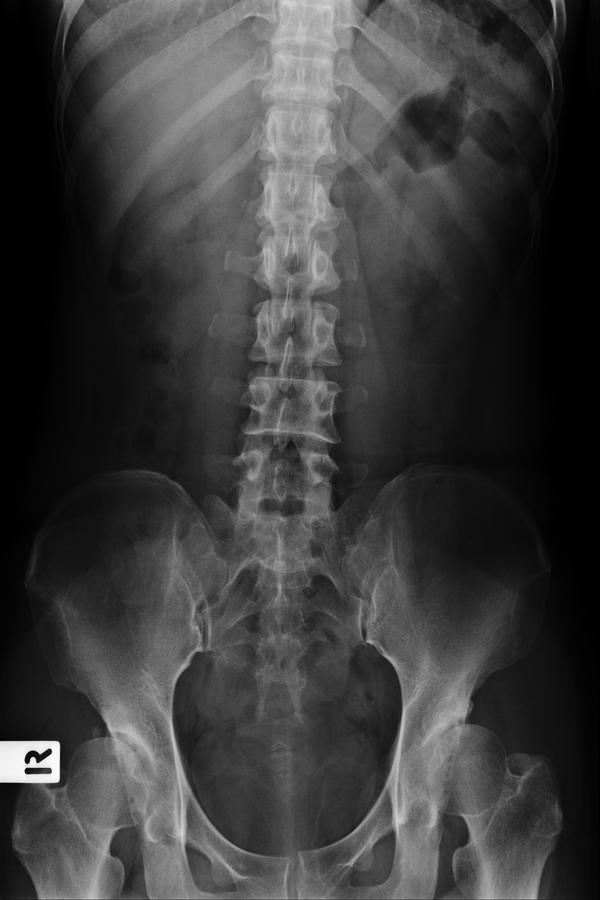lumbar scoliosis: (238, 4, 350, 572)
